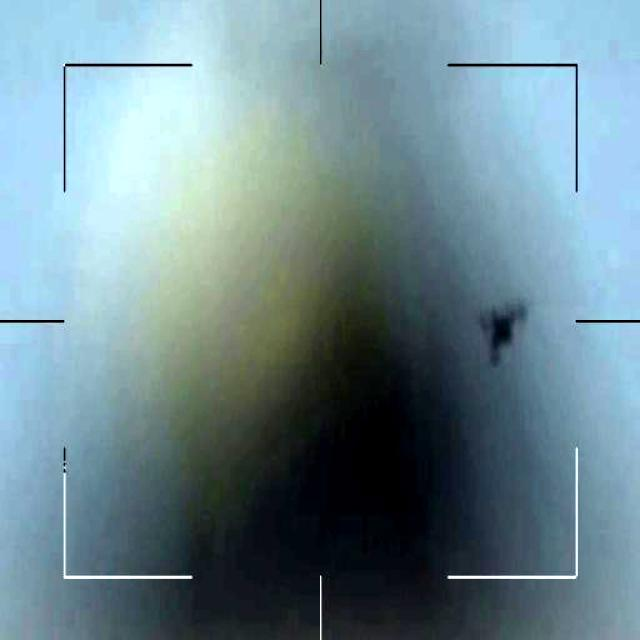bird: (462, 296, 530, 364)
